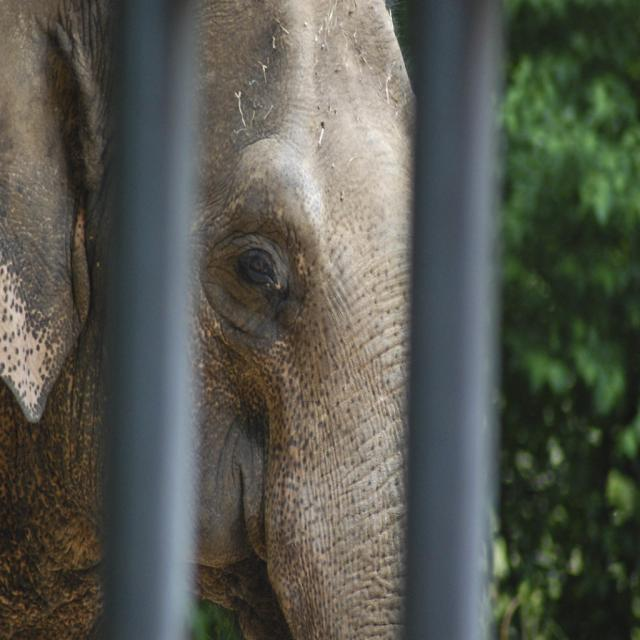elephant: (0, 0, 418, 639)
